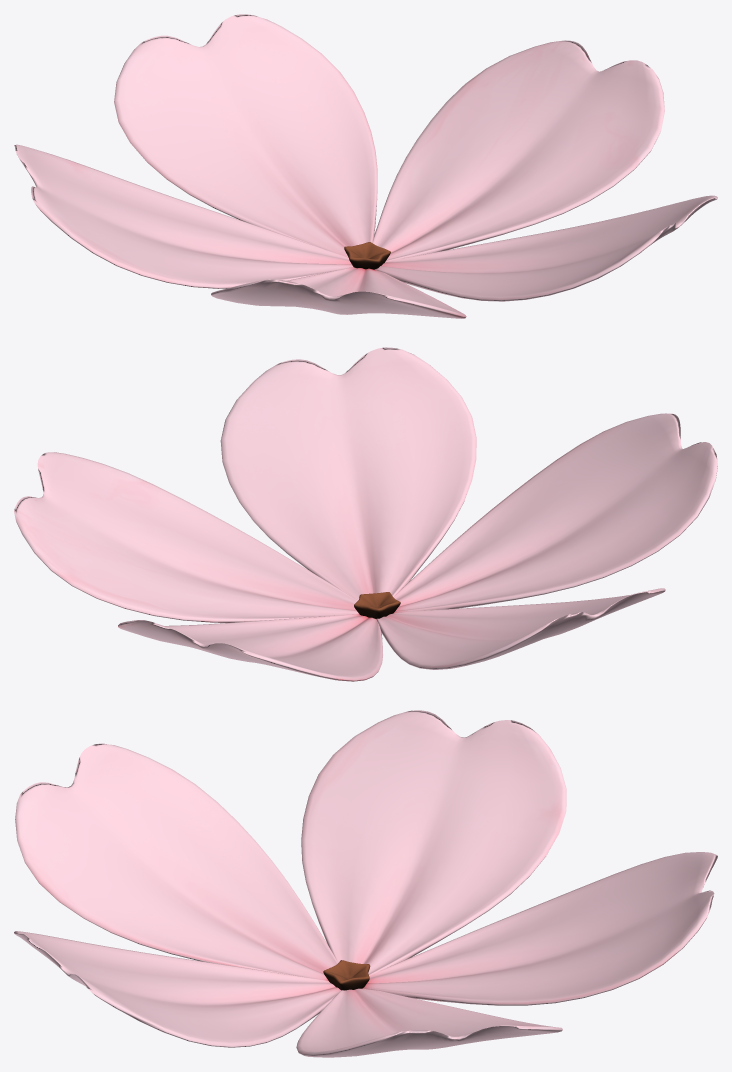
File: cartoon_sakura_-_free.glb
3 renders of one model, top to bottom at view 1: azimuth 30°, elevation 25°; view 2: azimuth 150°, elevation 25°; view 3: azimuth 270°, elevation 25°, orthographic. The views are drawn at different scales.
Parts seen in each view (by area): view 1: Sakura; view 2: Sakura; view 3: Sakura.
Part boxes in pixels (<box>): Sakura: <box>14,14,717,318</box>; Sakura: <box>14,347,717,681</box>; Sakura: <box>14,710,717,1057</box>.
Bounding box in the file's own units: 0.0933 × 0.0195 × 0.0899.
1 material, 1 textured.
